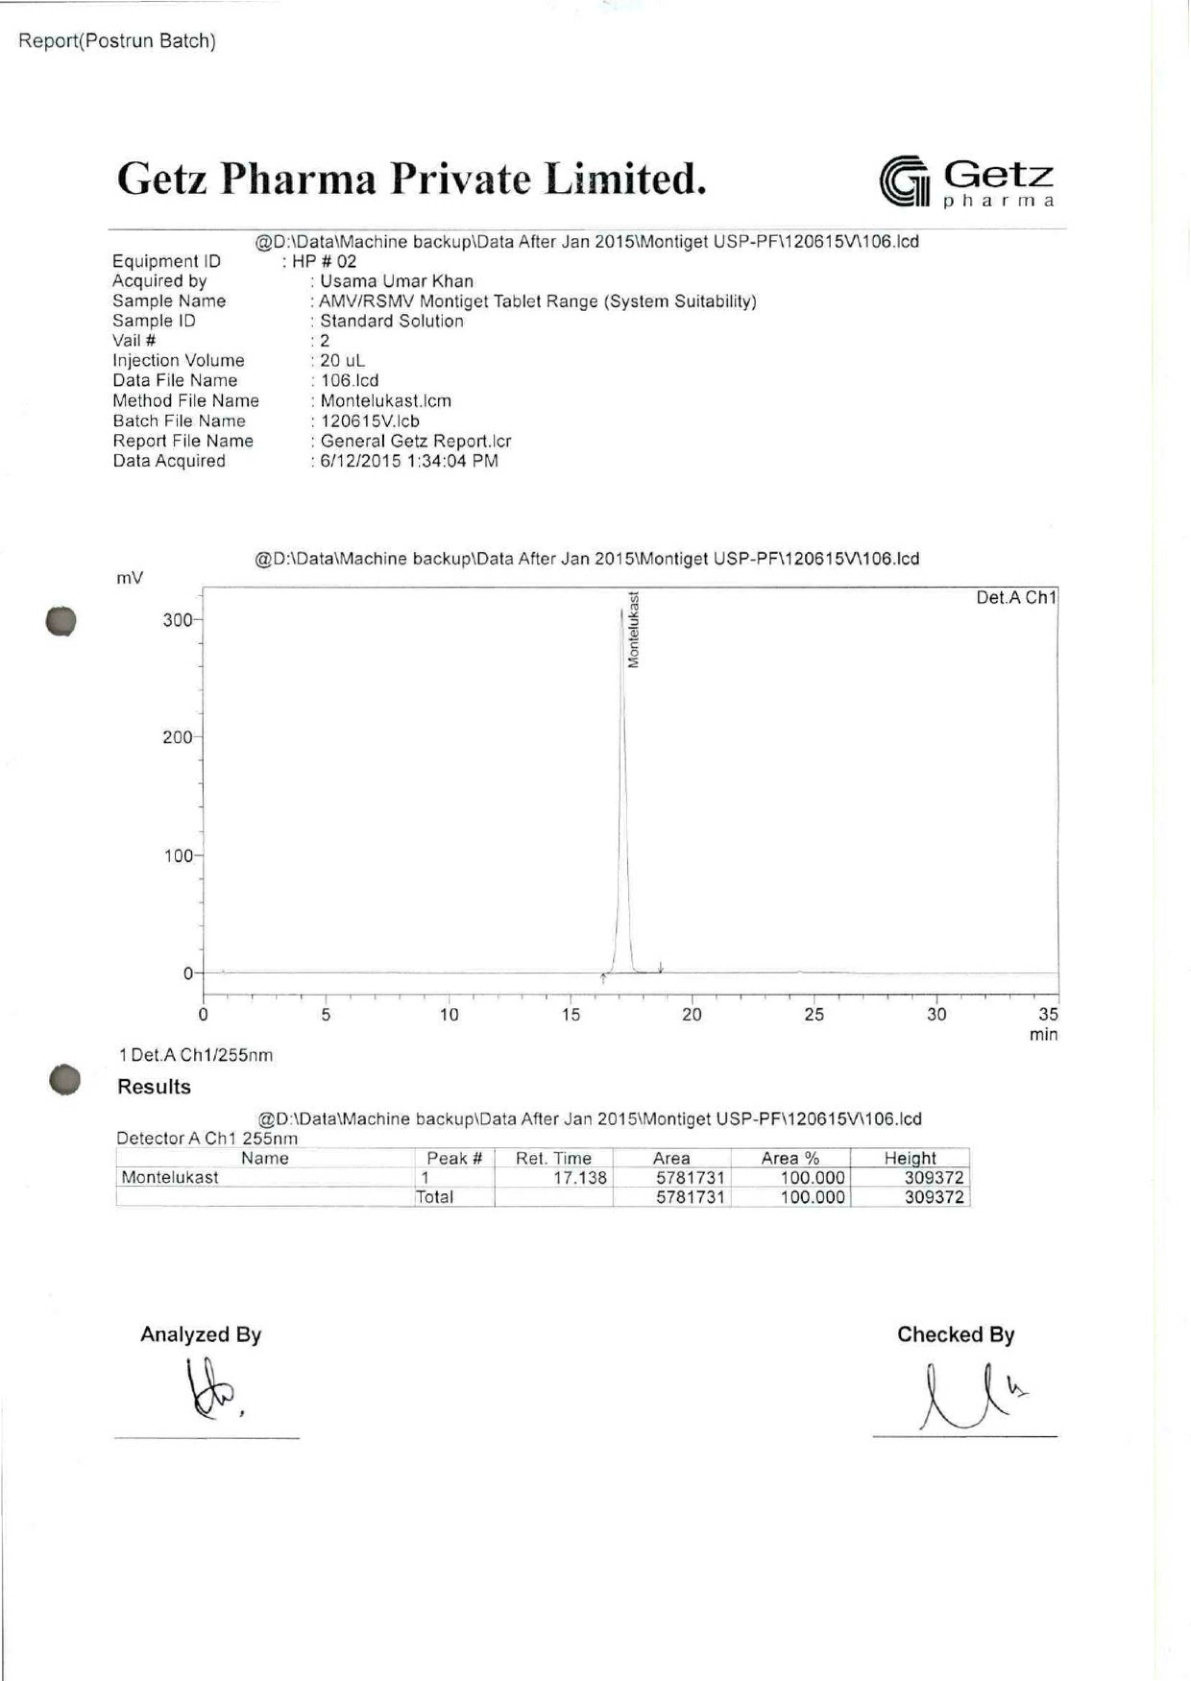full_lined: (113, 1146, 971, 1208)
nolines: (104, 251, 758, 471)
